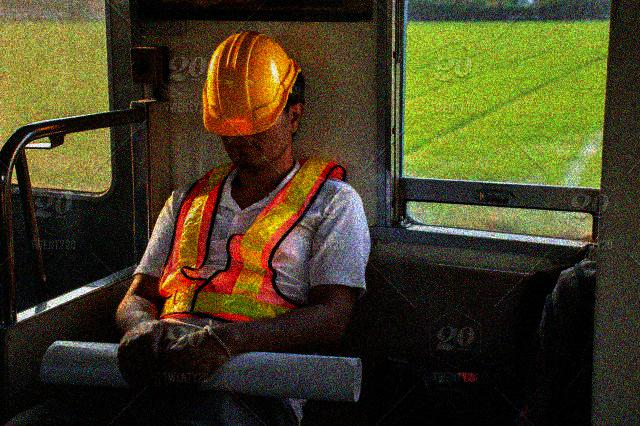helmet: (202, 29, 306, 172)
